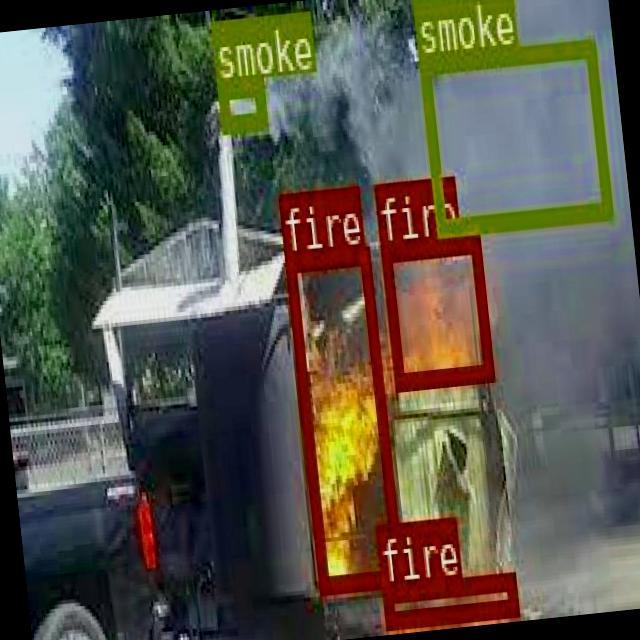fire: (284, 243, 402, 590), (378, 232, 491, 386), (380, 570, 517, 626)
smoke: (416, 36, 610, 232), (216, 74, 266, 130)
